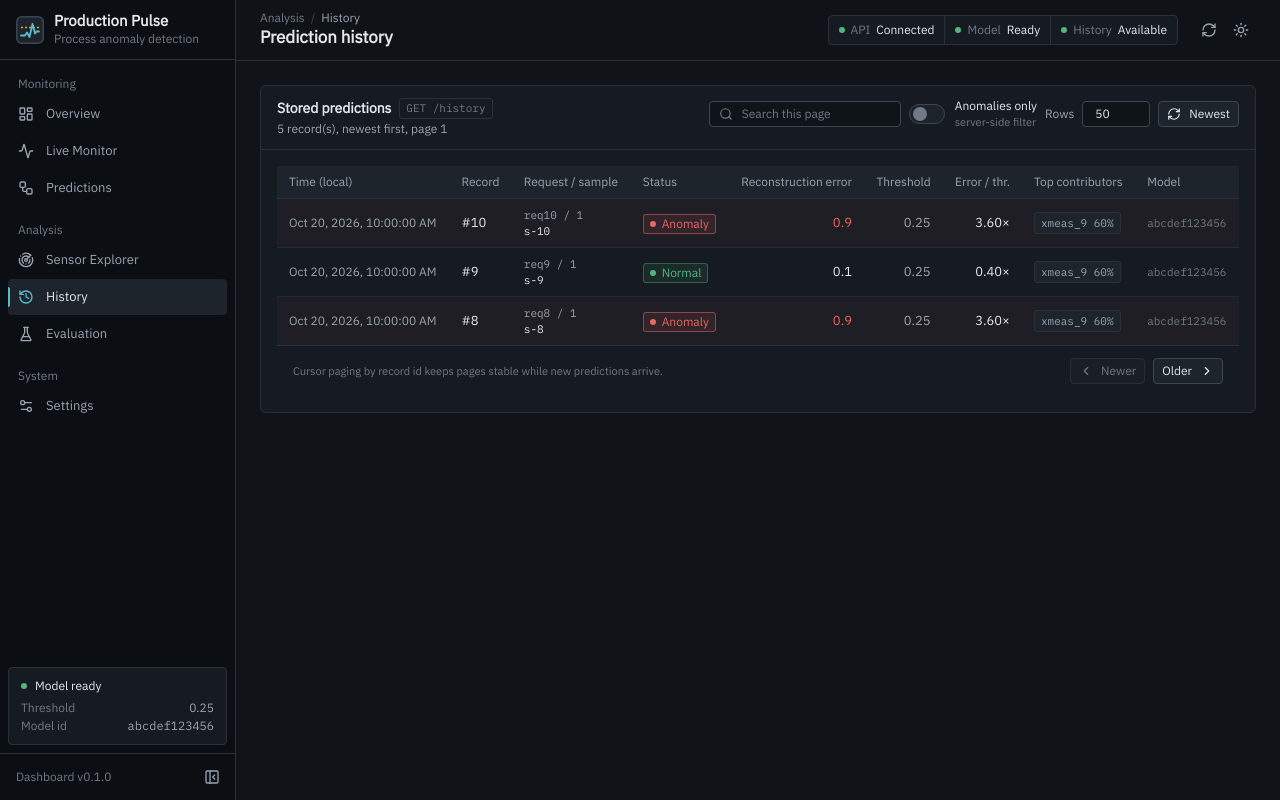
history page › pages with the API's before_id cursor and back
The image size is (1280, 800).
Expected: the text "#10" is shown, [449,199,512,248]
Click the button "Older": (1188, 371) [1153,358,1223,384]
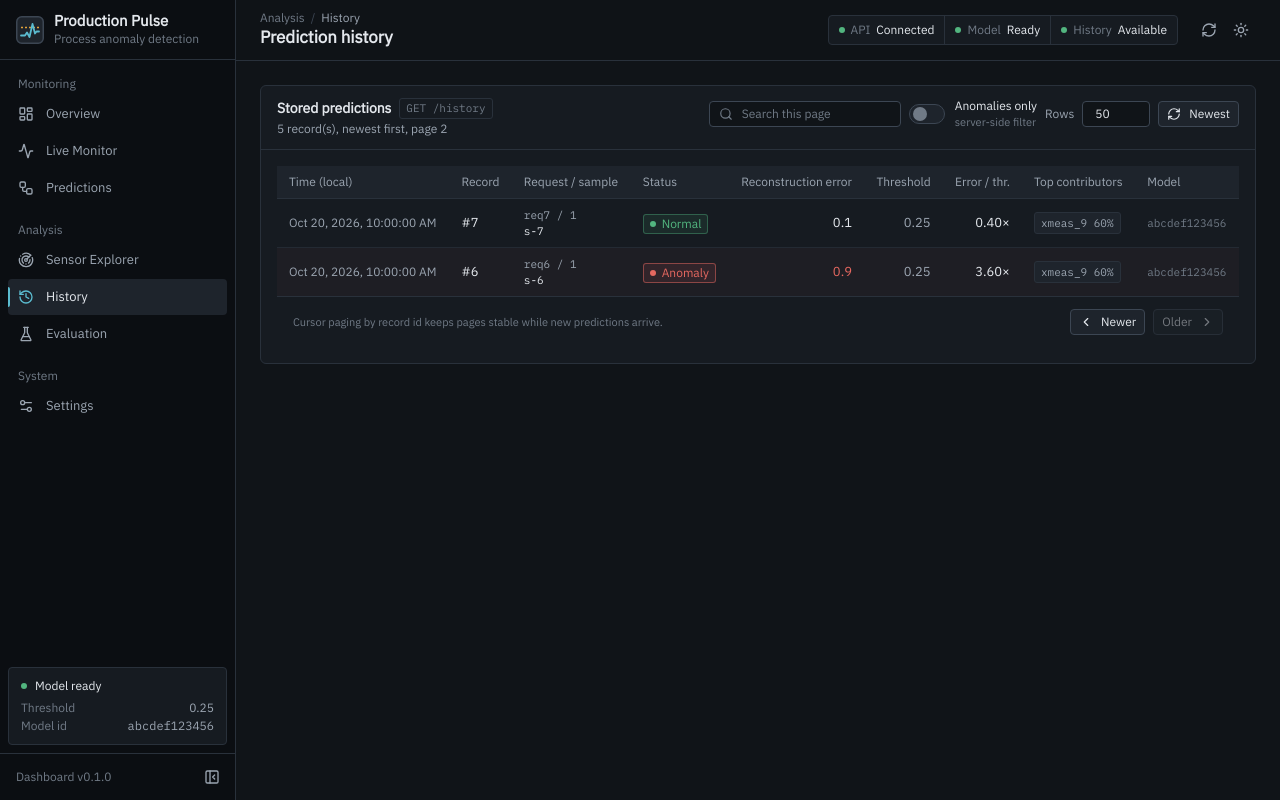
Now the text "#7" is shown, box [449,199,512,248]
Now the text "#10" is gone
Now the button "Older" is disabled, box [1153,309,1223,335]
Click the button "Newer": (1108, 322) [1070,309,1145,335]
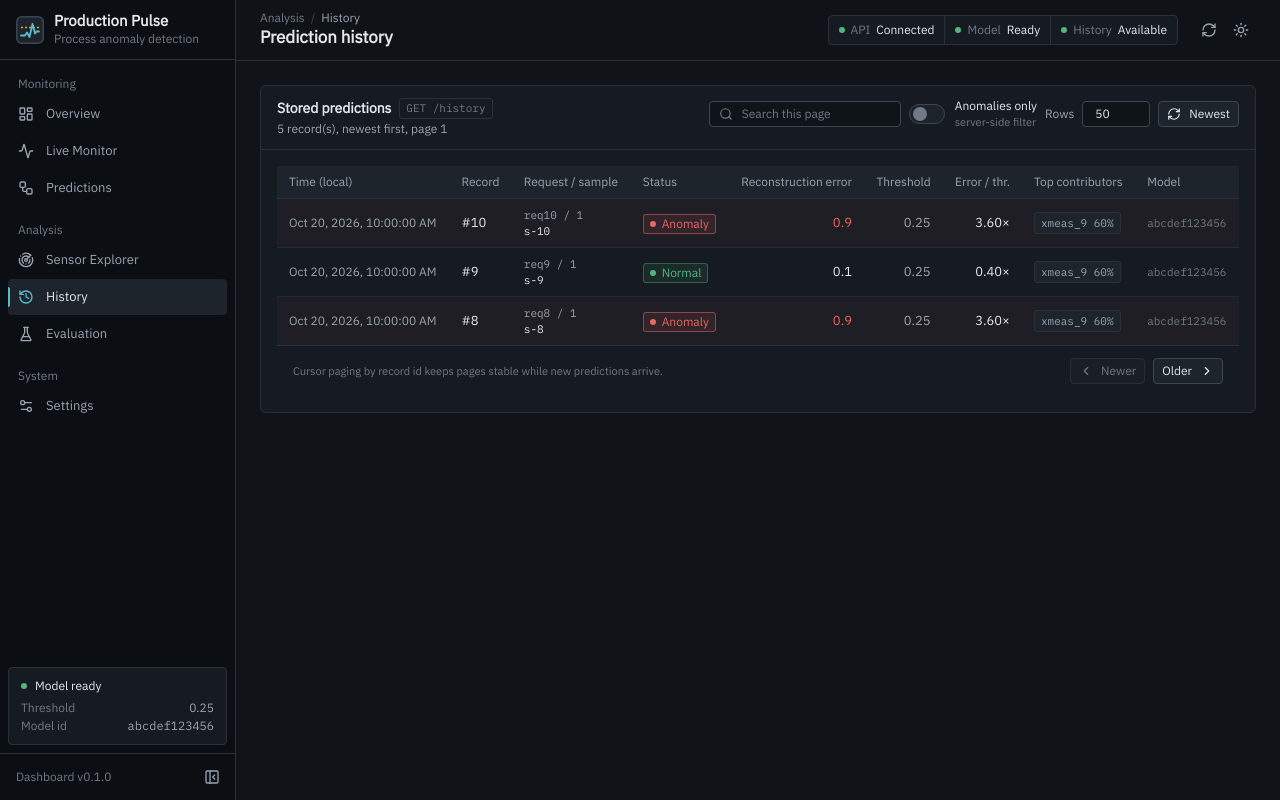
Now the text "#10" is shown, box [449,199,512,248]
